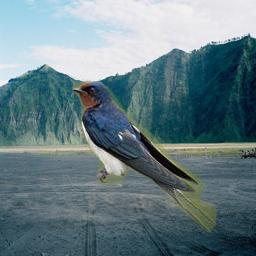Swallow: (72, 82, 216, 233)
